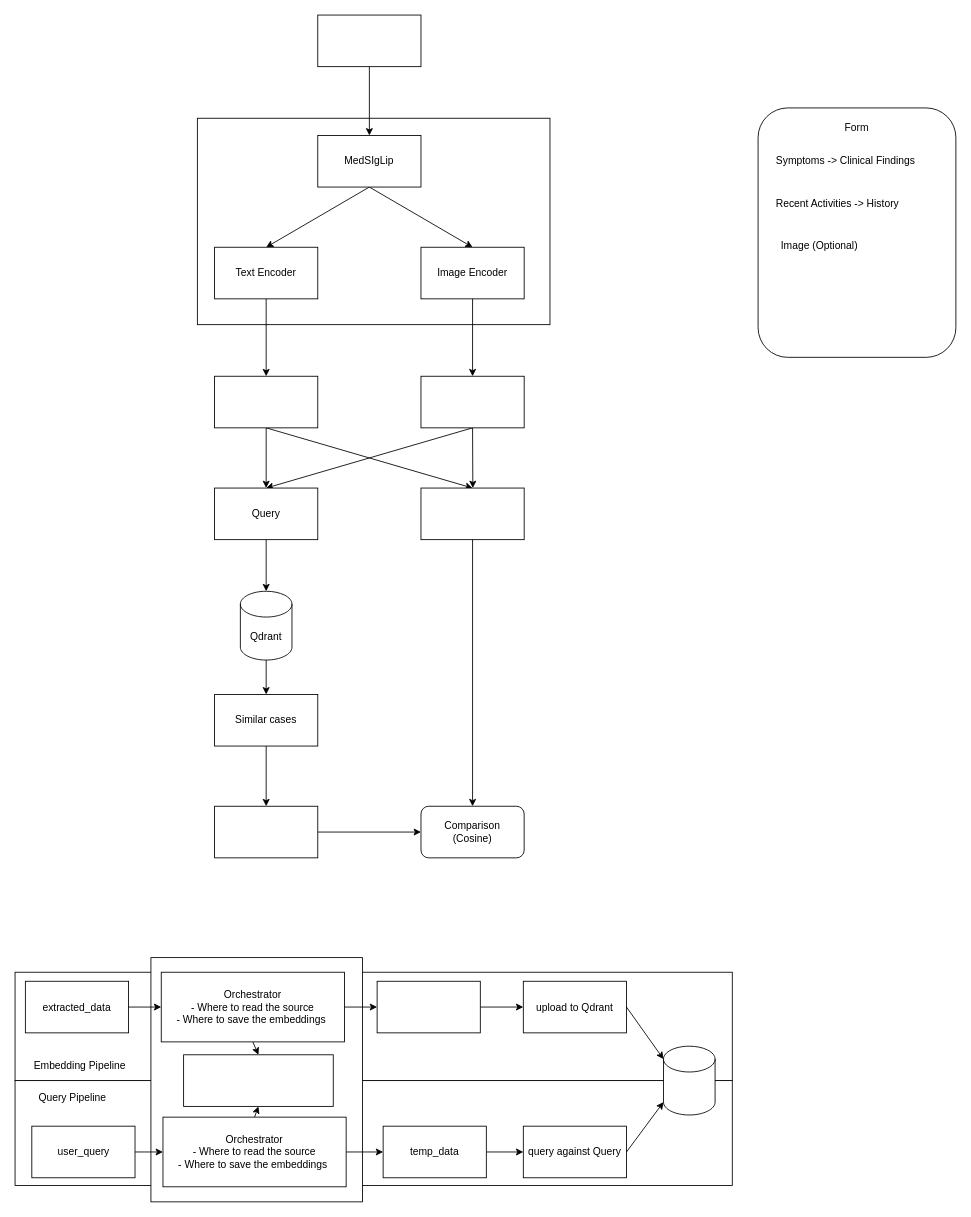
This 971x1217 diagram has some shape labels left out. The centre of each missing label's shape, as x and y in pixels:
Caption Embeddings: pixel 266 401
Combined Embeddings: pixel 266 831
Combined Embeddings (aggregation): pixel 472 513
Embedding Generator: pixel 258 1080
Image Embeddings: pixel 472 401
staged_embeddings: pixel 428 1006
User's Query: pixel 369 40
